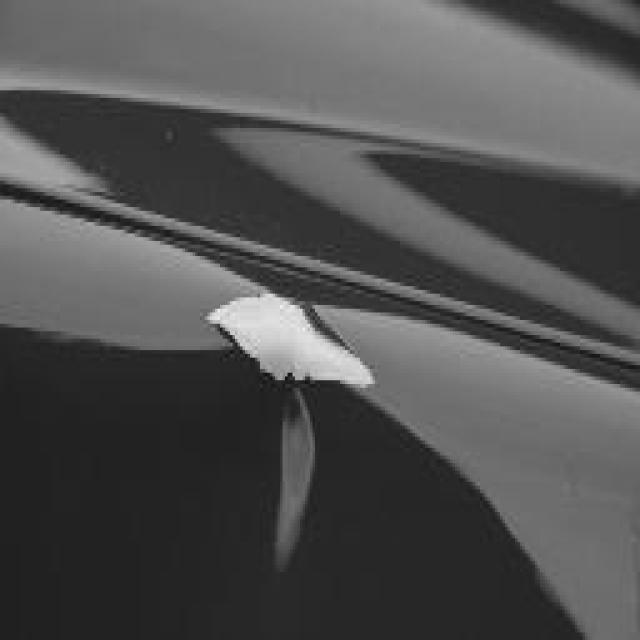Fender: (32, 217, 640, 640)
